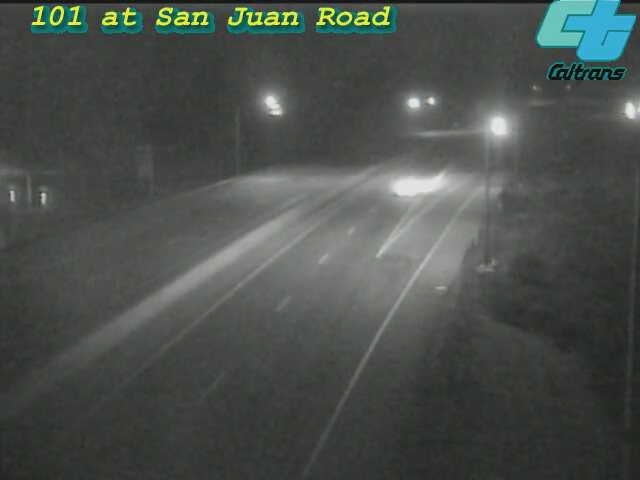vehicle: (367, 144, 447, 224), (472, 101, 522, 151), (602, 86, 640, 136)
